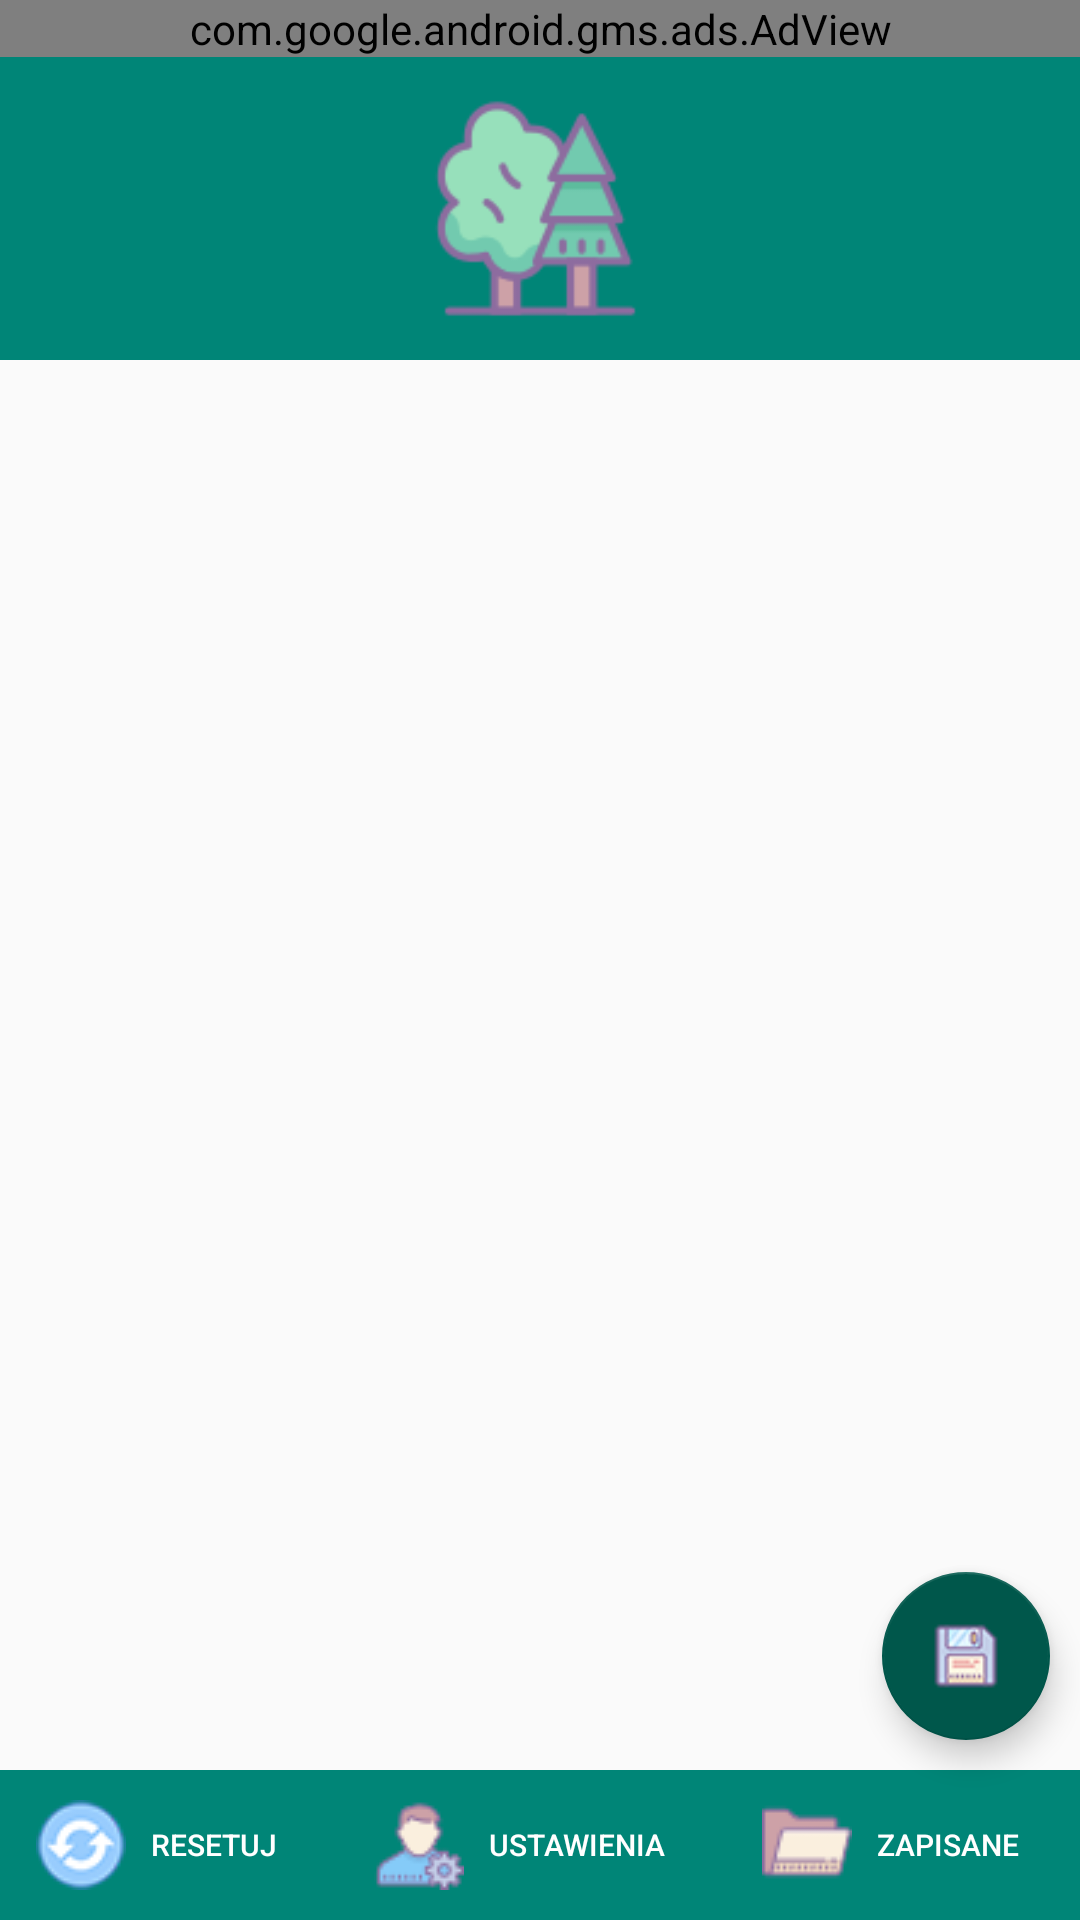

Icons on this 1080px x 1920px Android screen, each with the point to tap as (x=x, y=y):
forest: (x=536, y=208)
save: (x=966, y=1656)
